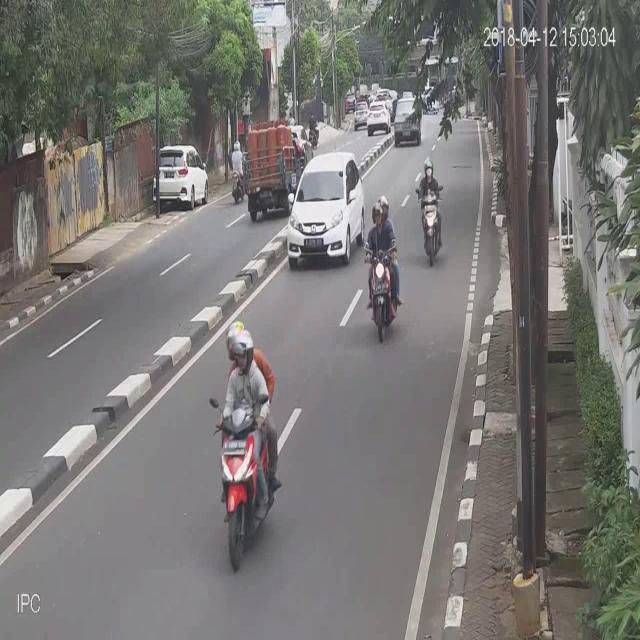bus: (206, 322, 284, 572), (363, 195, 403, 341), (412, 150, 449, 270), (227, 134, 244, 204)
motorcycle: (286, 150, 366, 266), (153, 137, 211, 213), (393, 92, 422, 150), (367, 100, 390, 135), (355, 99, 367, 128)
truck: (249, 123, 295, 214)
